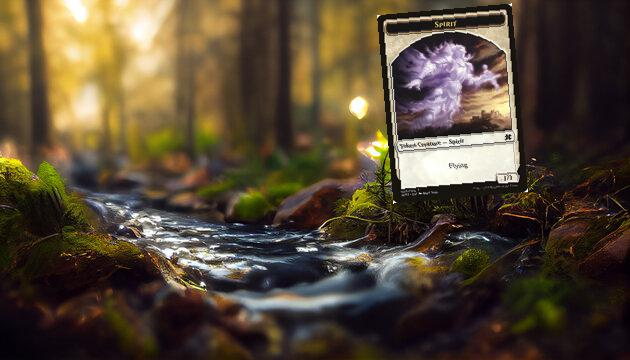mtgCard: (377, 3, 528, 204)
